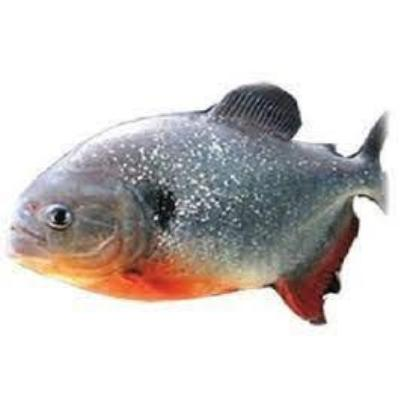ikan-pacu: (15, 83, 398, 303)
